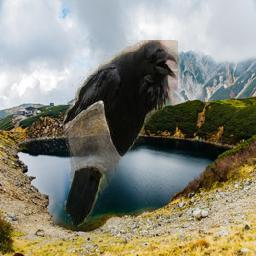Crow: (64, 41, 179, 230)
